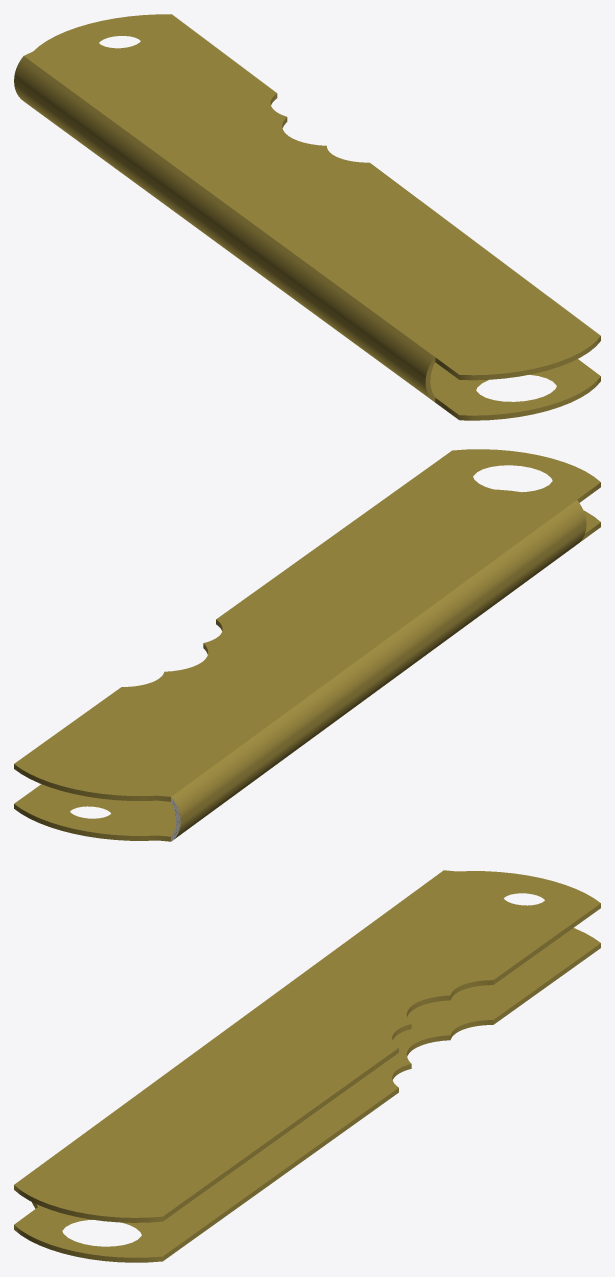
The model's file is original-7.obj.
The picture shows the model from 3 angles, top to bottom: view 1: azimuth 30°, elevation 25°; view 2: azimuth 150°, elevation 25°; view 3: azimuth 330°, elevation 25°; orthographic projection.
Visible parts, largest first — view 1: #ID352; view 2: #ID352; view 3: #ID352.
Boxes of the visible parts, left/top/right/bottom form: #ID352: left=14, top=14, right=600, bottom=420; #ID352: left=14, top=449, right=600, bottom=841; #ID352: left=14, top=870, right=600, bottom=1262.
Size of the model in its own units: 0.3464 by 0.0921 by 1.71.
